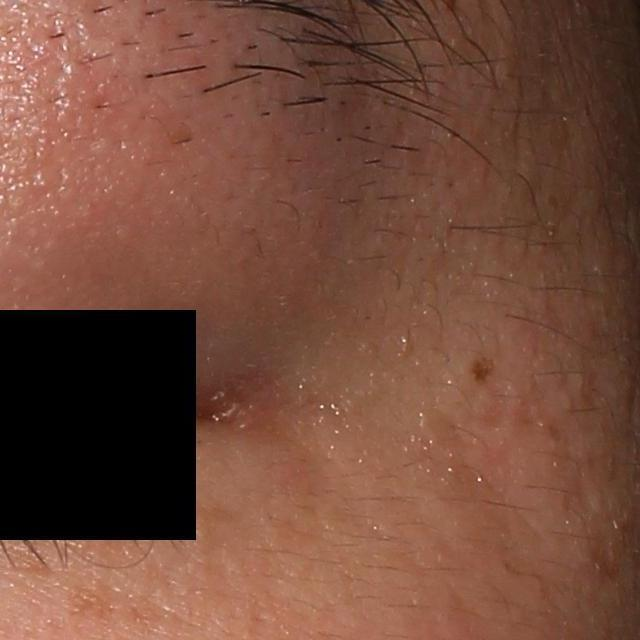melasma: (297, 457, 344, 518), (63, 581, 118, 630)
nevus: (469, 352, 496, 385)
